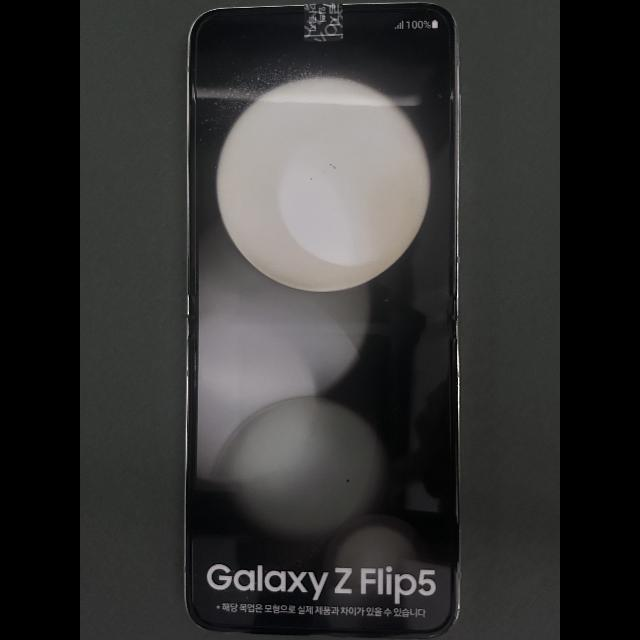phone: (184, 2, 459, 636)
sticker: (304, 3, 345, 42)
